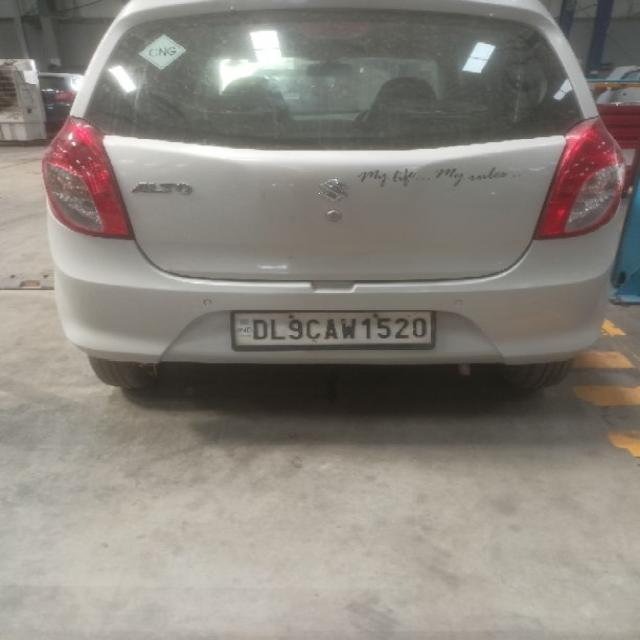license_plate: (229, 308, 436, 350)
